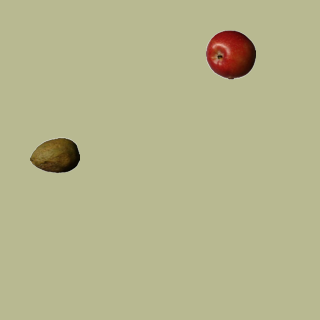Apple Braeburn: (205, 29, 255, 79)
Papaya: (29, 130, 79, 180)
